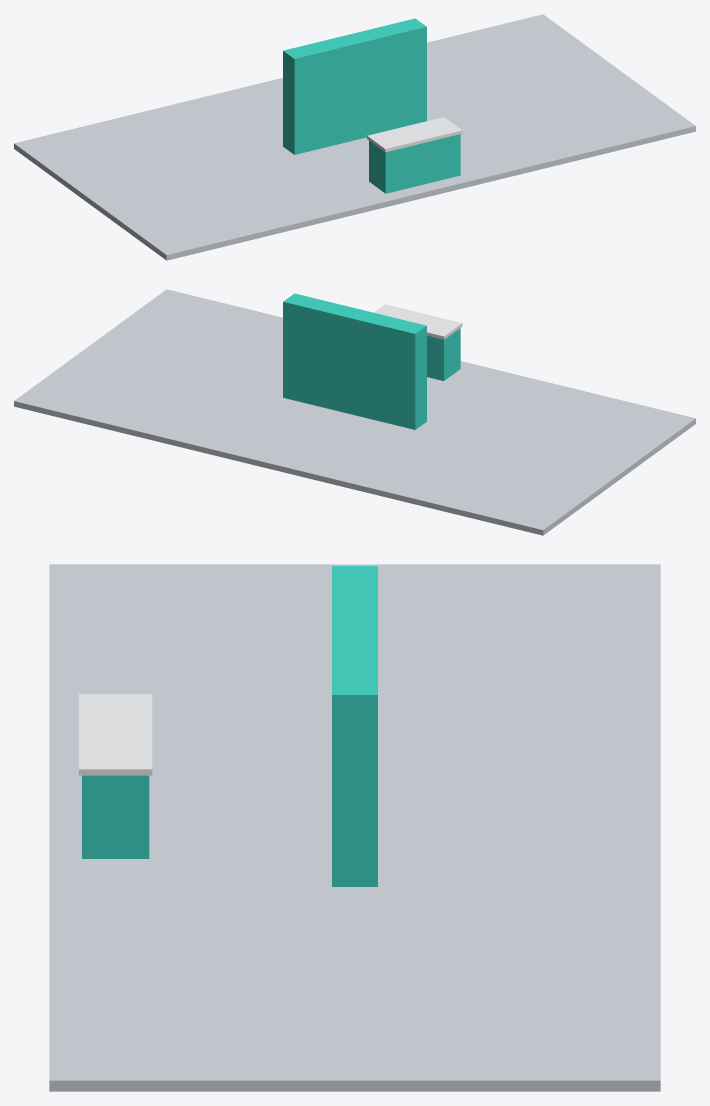
3 renders of one model, top to bottom at view 1: azimuth 30°, elevation 25°; view 2: azimuth 150°, elevation 25°; view 3: azimuth 270°, elevation 25°, orthographic. The views are drawn at different scales.
Visible parts, largest first — view 1: Exhibition Booth Concept; view 2: Exhibition Booth Concept; view 3: Exhibition Booth Concept.
Boxes of the visible parts, bbox=[...] form: Exhibition Booth Concept: bbox=[14, 14, 695, 260]; Exhibition Booth Concept: bbox=[14, 289, 695, 535]; Exhibition Booth Concept: bbox=[49, 564, 660, 1091].
Size of the model in its own units: 12 by 2.2 by 6.
